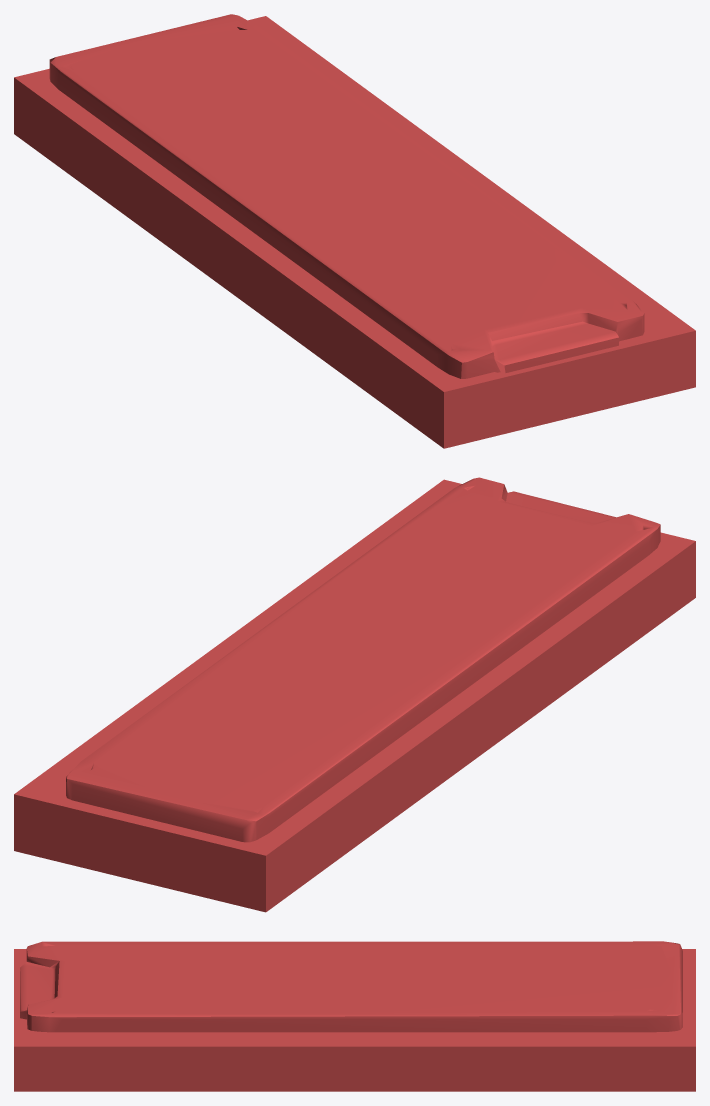
File: Final_ComplexWall_3x1_04.FBX
3 views of the same model, one above another, from view 1: azimuth 30°, elevation 25°; view 2: azimuth 150°, elevation 25°; view 3: azimuth 270°, elevation 25° (orthographic). The views are drawn at different scales.
Parts seen in each view (by area): view 1: Final_ComplexWall_3x1_04; view 2: Final_ComplexWall_3x1_04; view 3: Final_ComplexWall_3x1_04.
Part boxes in pixels (bbox=[...]): Final_ComplexWall_3x1_04: bbox=[14, 14, 695, 448]; Final_ComplexWall_3x1_04: bbox=[14, 477, 695, 912]; Final_ComplexWall_3x1_04: bbox=[14, 941, 695, 1091].
Size of the model in its own units: 102 by 300 by 29.82.
